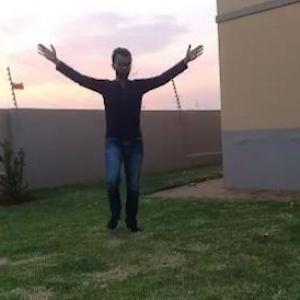takeoff: (7, 5, 199, 253)
